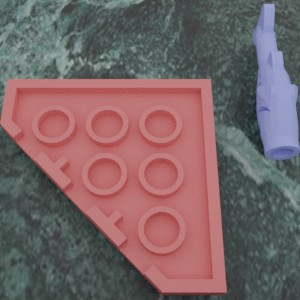lego: (0, 79, 226, 295), (252, 3, 299, 160)
